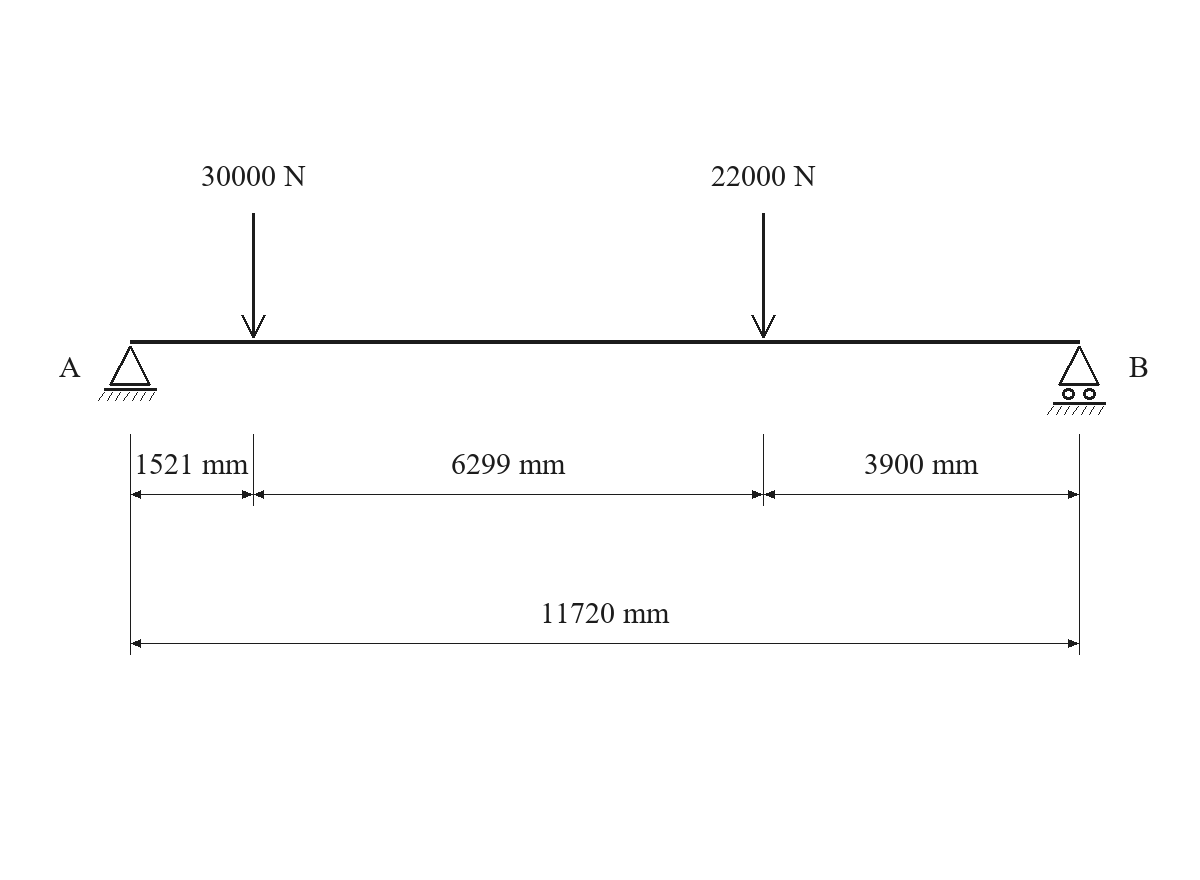pin_support: (98, 346, 157, 401)
point_load: (241, 213, 266, 338), (751, 213, 776, 338)
roller_support: (1047, 346, 1106, 415)
